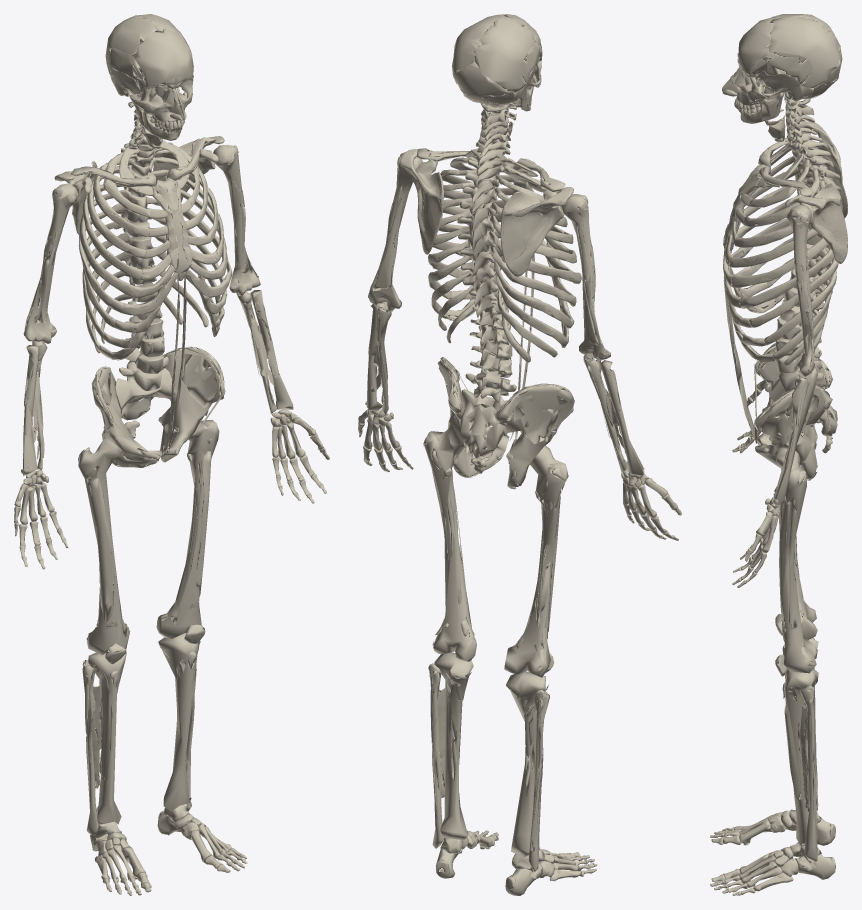
Rendered from anatomy-bones.glb.
The picture shows the model from 3 angles, left to right: view 1: azimuth 30°, elevation 25°; view 2: azimuth 150°, elevation 25°; view 3: azimuth 270°, elevation 25°; orthographic projection. The views are drawn at different scales.
Visible parts, largest first — view 1: Femurl, Tibial, Femurr, Frontal_bone, Hip_bonel, Humerusl, Tibiar, Hip_boner, Humerusr, Vastus_intermedius_muscleor, Sacrum, Iliacus_muscleol (+17 smaller); view 2: Femurl, Femurr, Hip_boner, Tibial, Parietal_boner, Tibiar, Sacrum, Hip_bonel, Humerusr, Scapular, Humerusl, Occipital_bone (+16 smaller); view 3: Parietal_bonel, Femurl, Hip_bonel, Tibial, Humerusl, Frontal_bone, Vastus_intermedius_muscleol, Fibulal, Scapulal, Temporalis_muscleo2l, Tibialis_anterior_muscleol, Radiusl (+32 smaller).
Part boxes in pixels (x1=…): Femurl: x1=156, y1=420, x2=219, y2=638; Tibial: x1=158, y1=633, x2=198, y2=811; Femurr: x1=78, y1=437, x2=129, y2=655; Frontal_bone: x1=134, y1=28, x2=193, y2=90; Hip_bonel: x1=159, y1=347, x2=223, y2=461; Humerusl: x1=213, y1=145, x2=260, y2=295; Tibiar: x1=88, y1=652, x2=126, y2=824; Hip_boner: x1=91, y1=368, x2=161, y2=467; Humerusr: x1=24, y1=183, x2=78, y2=343; Vastus_intermedius_muscleor: x1=89, y1=478, x2=115, y2=621; Sacrum: x1=115, y1=368, x2=175, y2=420; Iliacus_muscleol: x1=176, y1=353, x2=219, y2=408; Femurl: x1=424, y1=428, x2=476, y2=661; Femurr: x1=504, y1=445, x2=568, y2=677; Hip_boner: x1=496, y1=384, x2=574, y2=487; Tibial: x1=434, y1=652, x2=473, y2=839; Parietal_boner: x1=474, y1=16, x2=535, y2=92; Tibiar: x1=506, y1=671, x2=545, y2=857; Sacrum: x1=459, y1=389, x2=507, y2=457; Hip_bonel: x1=438, y1=358, x2=509, y2=477; Humerusr: x1=561, y1=194, x2=610, y2=360; Scapular: x1=501, y1=187, x2=573, y2=275; Humerusl: x1=368, y1=153, x2=422, y2=312; Occipital_bone: x1=453, y1=62, x2=514, y2=106; Parietal_bonel: x1=764, y1=16, x2=839, y2=87; Femurl: x1=775, y1=448, x2=817, y2=673; Hip_bonel: x1=755, y1=388, x2=832, y2=479; Tibial: x1=784, y1=669, x2=818, y2=846; Humerusl: x1=786, y1=204, x2=813, y2=376; Frontal_bone: x1=738, y1=17, x2=774, y2=77; Vastus_intermedius_muscleol: x1=779, y1=496, x2=790, y2=632; Fibulal: x1=800, y1=685, x2=817, y2=862; Scapulal: x1=785, y1=184, x2=847, y2=263; Temporalis_muscleo2l: x1=764, y1=52, x2=813, y2=84; Tibialis_anterior_muscleol: x1=784, y1=687, x2=804, y2=799; Radiusl: x1=773, y1=377, x2=807, y2=505.
Size of the model in its own units: 0.6692 by 1.7 by 0.2506.
